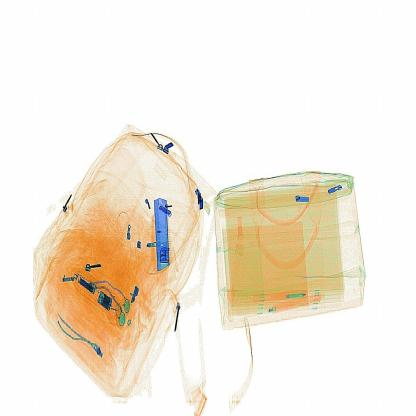pliers: (146, 185, 179, 279)
